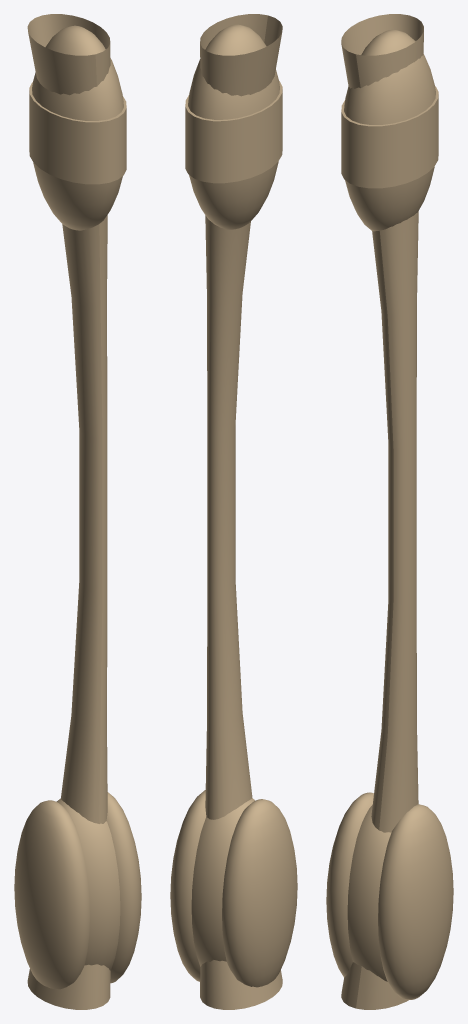
Rendered from left_radius.glb.
3 renders of one model, left to right at view 1: azimuth 30°, elevation 25°; view 2: azimuth 150°, elevation 25°; view 3: azimuth 330°, elevation 25°, orthographic.
Visible parts, largest first — view 1: left_radius:diaphysis, left_radius:condyle--1, left_radius:proximal-envelope, left_radius:radial-head, left_radius:distal-envelope, left_radius:condyle-1; view 2: left_radius:diaphysis, left_radius:condyle--1, left_radius:proximal-envelope, left_radius:radial-head, left_radius:distal-envelope, left_radius:condyle-1; view 3: left_radius:diaphysis, left_radius:condyle-1, left_radius:proximal-envelope, left_radius:radial-head, left_radius:distal-envelope, left_radius:condyle--1.
Boxes of the visible parts, <box> form: left_radius:diaphysis: <box>27,14,110,1009</box>; left_radius:condyle--1: <box>14,800,89,989</box>; left_radius:proximal-envelope: <box>32,25,123,230</box>; left_radius:radial-head: <box>29,82,126,184</box>; left_radius:distal-envelope: <box>56,798,120,970</box>; left_radius:condyle-1: <box>106,792,141,983</box>; left_radius:diaphysis: <box>200,14,282,1009</box>; left_radius:condyle--1: <box>222,799,297,987</box>; left_radius:proximal-envelope: <box>188,24,279,229</box>; left_radius:radial-head: <box>185,81,282,183</box>; left_radius:distal-envelope: <box>191,798,254,966</box>; left_radius:condyle-1: <box>170,790,206,981</box>; left_radius:diaphysis: <box>341,14,423,1009</box>; left_radius:condyle-1: <box>378,804,453,999</box>; left_radius:proximal-envelope: <box>344,29,435,231</box>; left_radius:radial-head: <box>341,86,438,188</box>; left_radius:distal-envelope: <box>347,805,391,981</box>; left_radius:condyle--1: <box>326,792,373,977</box>.
Bounding box in the file's own units: 0.141 × 1.27 × 0.1504.
